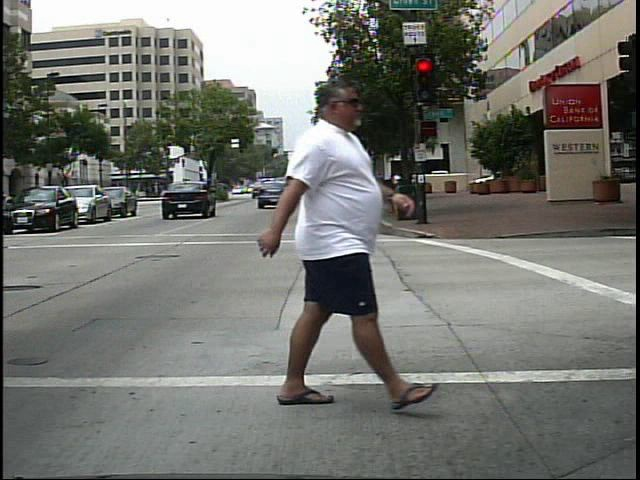person: (245, 72, 409, 418)
